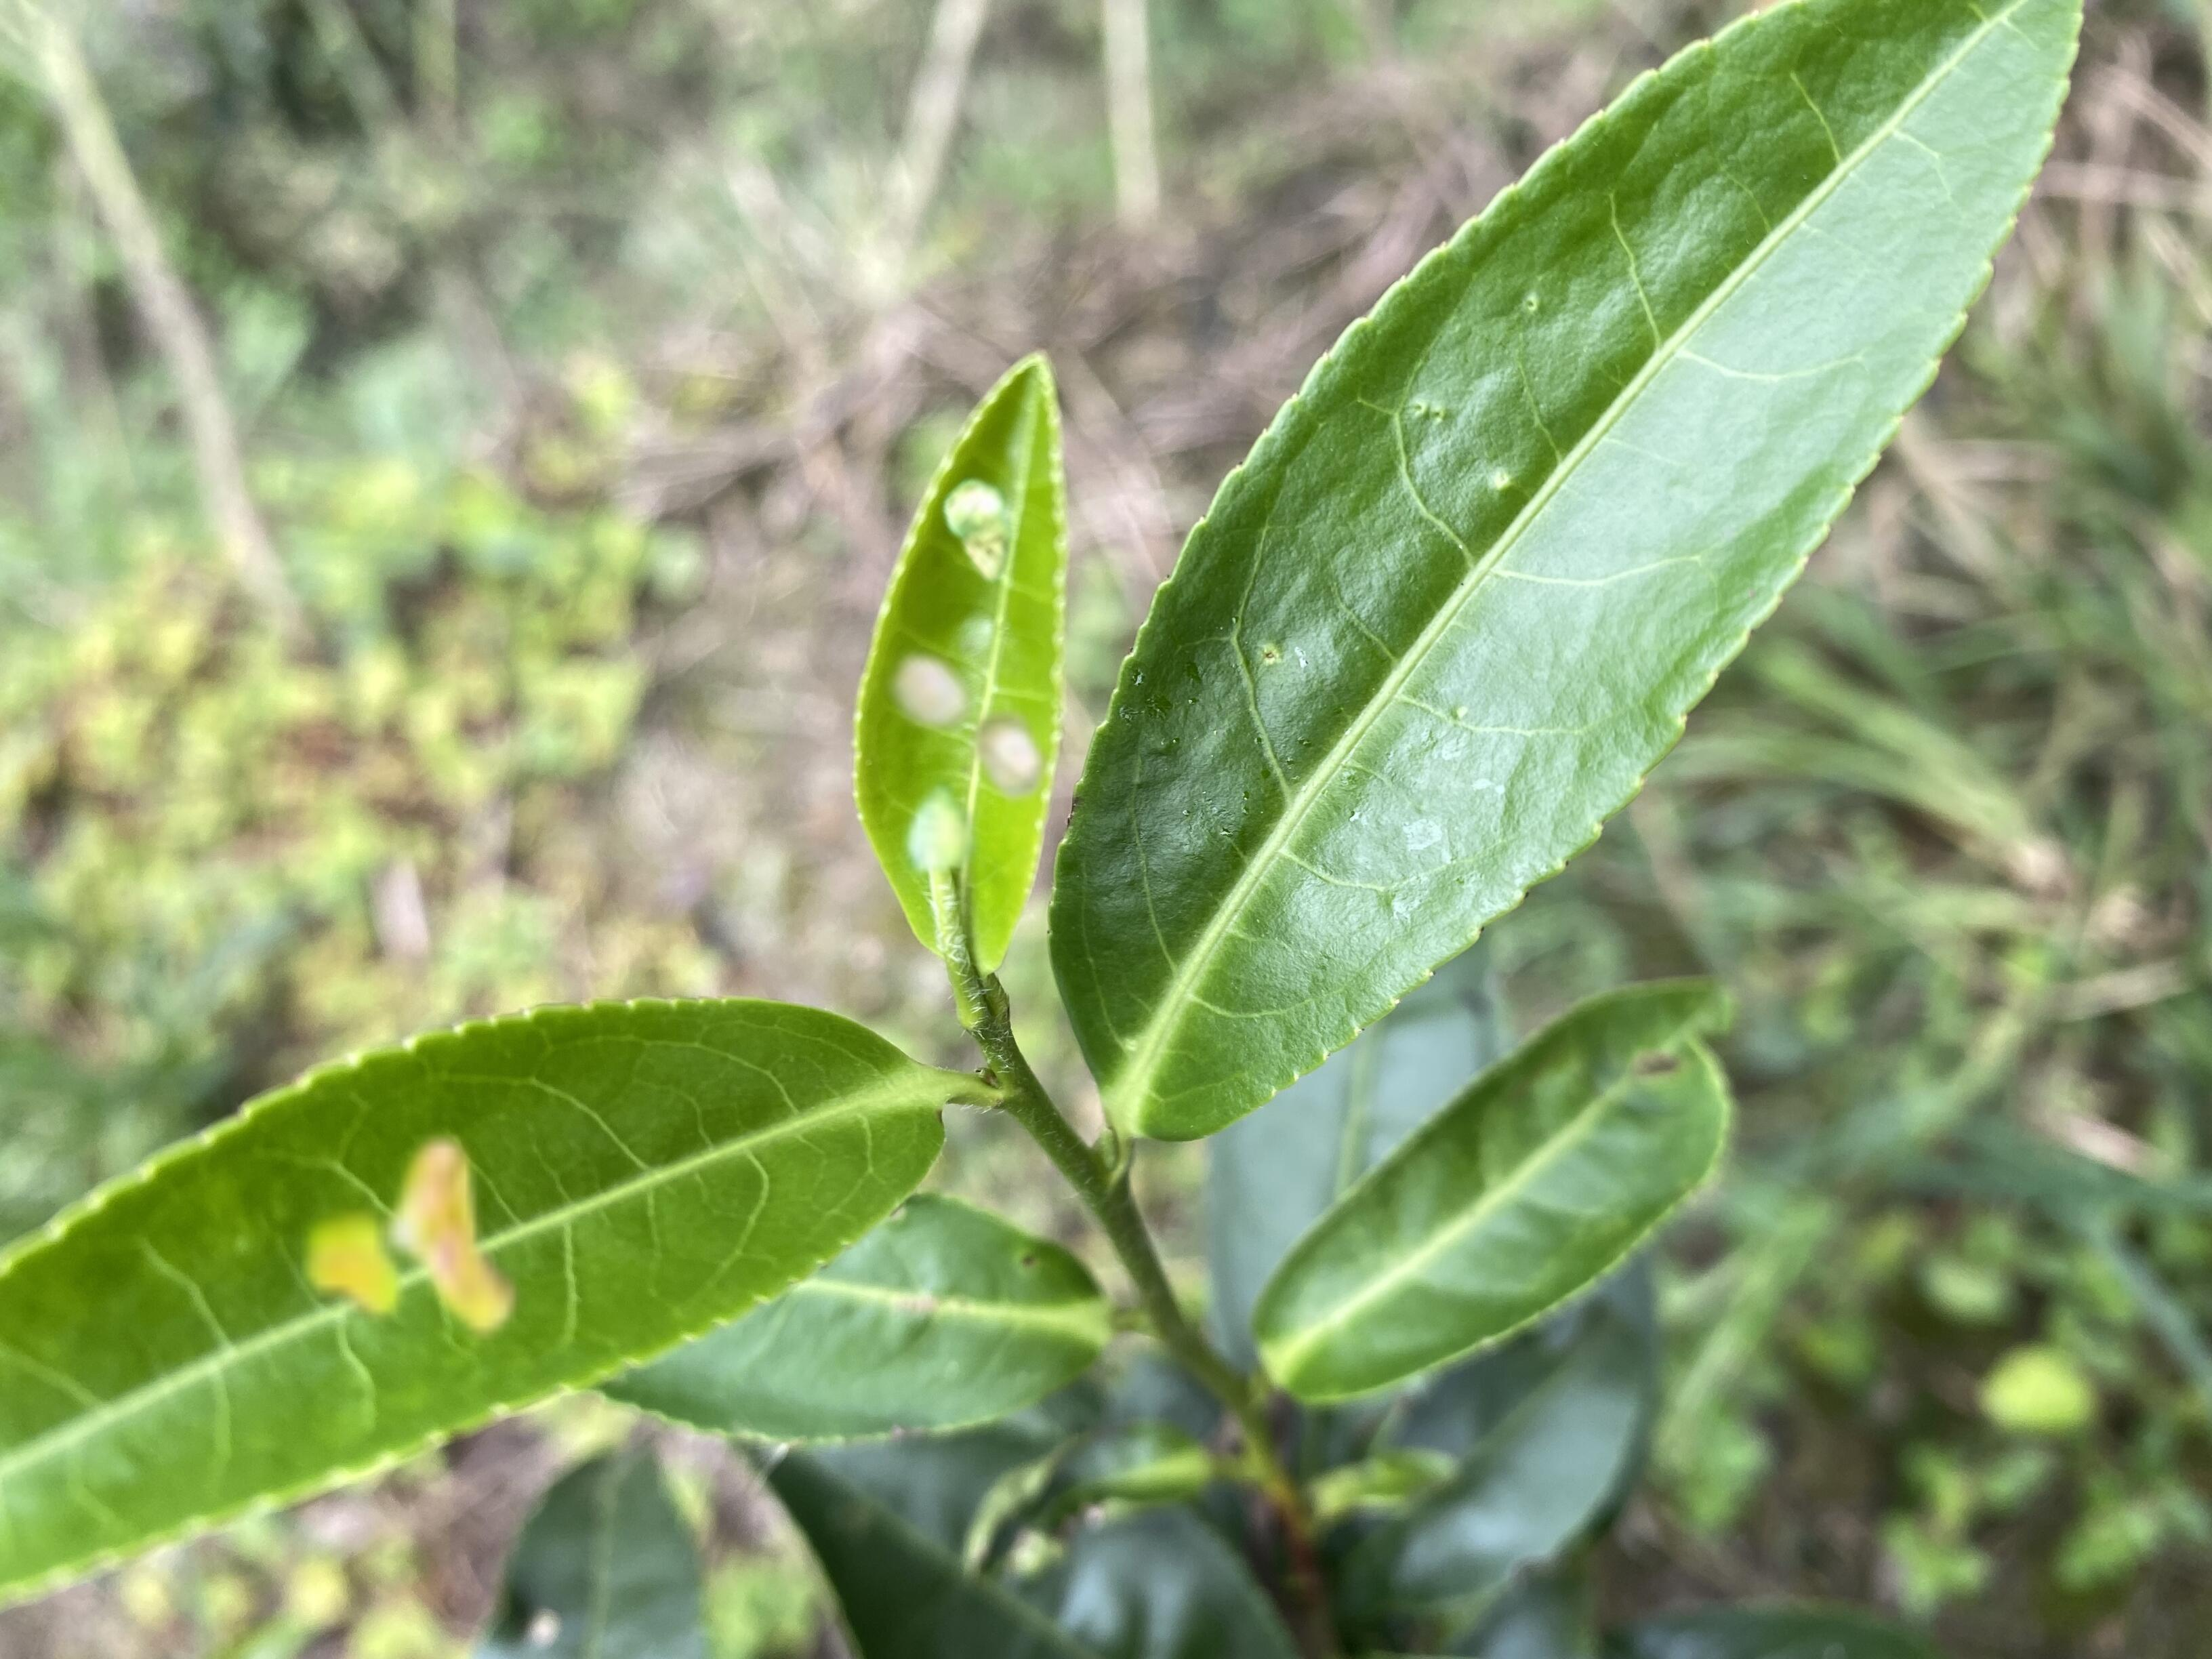chabing_high: (3, 997, 948, 1601), (853, 350, 1066, 972)
